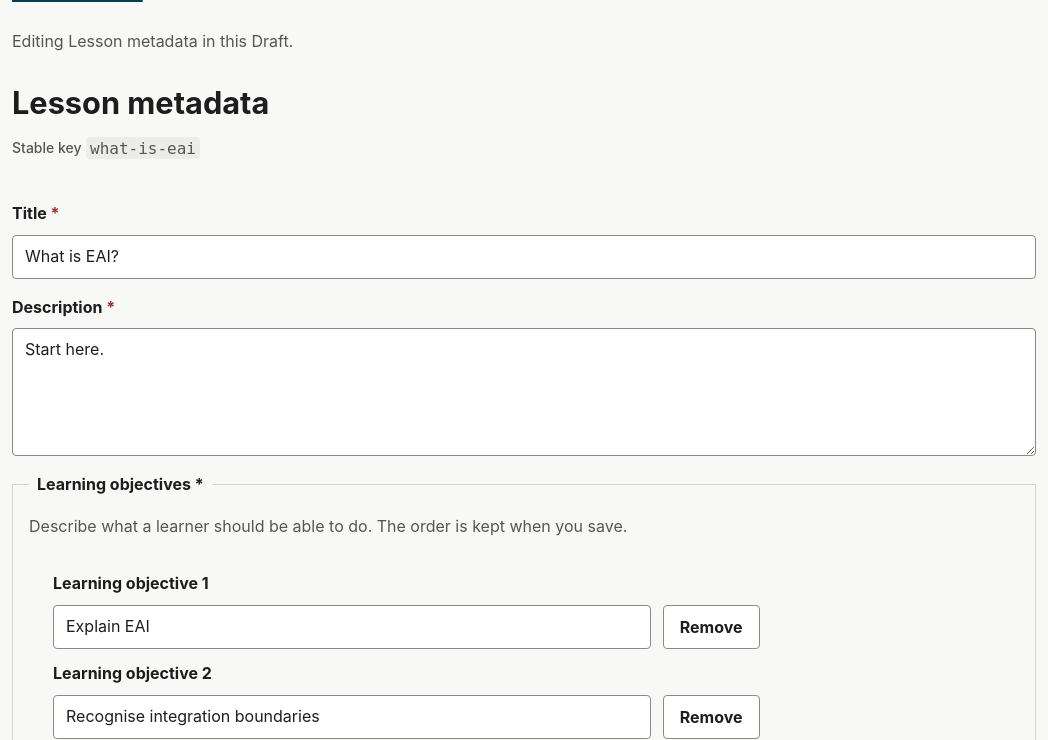
Scenario: AuthoringDraftLessonPage › preserves local values on conflict and reloads only on explicit request
The width and height of the screenshot is (1048, 740).
Replace the text in the field labelled "Title *" with "My local title": (524, 256) [12,234,1036,278]
(page scrolled)
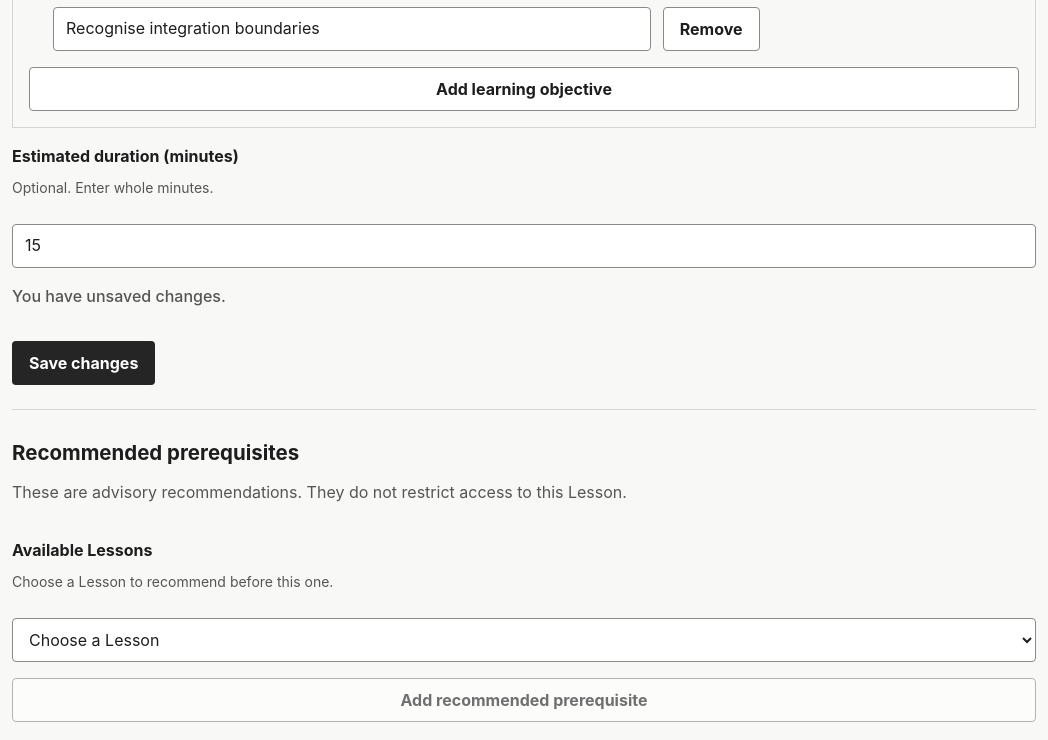
Click the button "Save changes": (84, 363) [12,341,155,385]
(page scrolled)
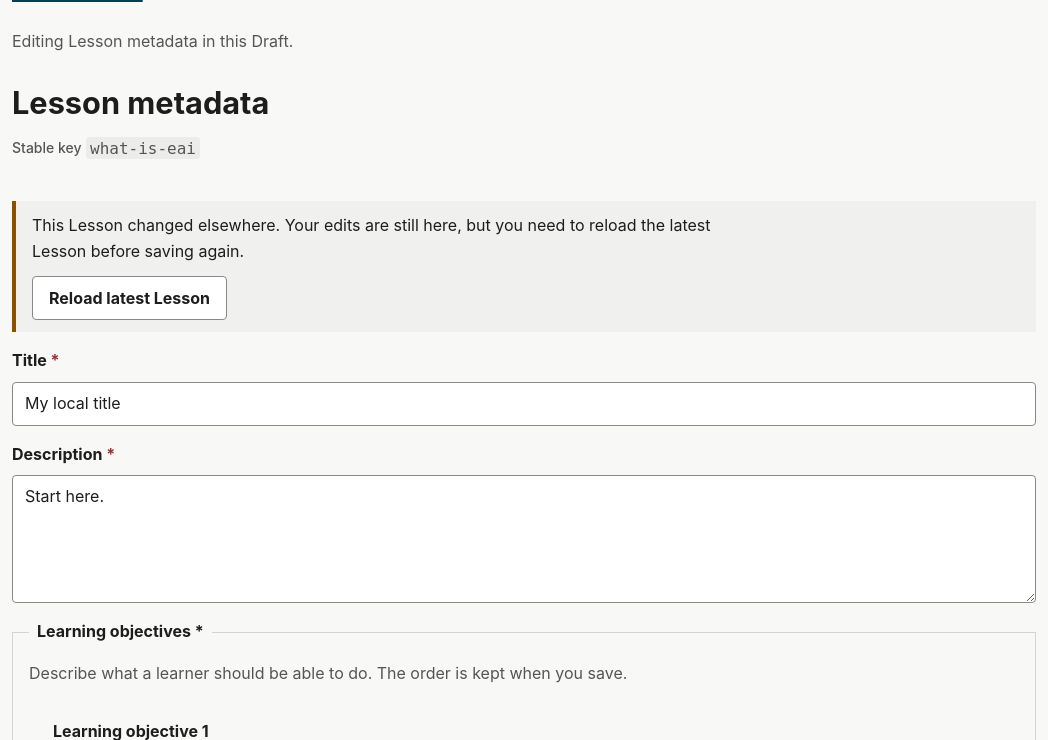
Now the text "Lesson changed elsewhere" is shown, box [32,215,710,261]
Click the button "Reload latest Lesson": (130, 298) [32,276,227,320]
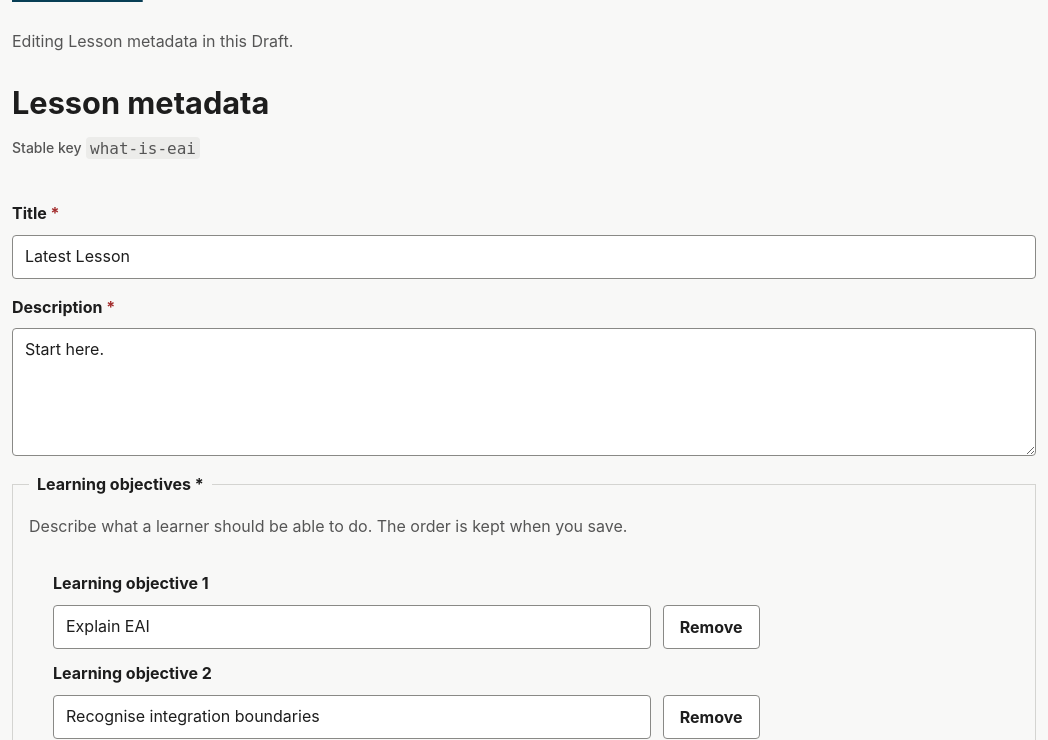
Now the field labelled "Title *" holds "Latest Lesson", box [12,234,1036,278]
